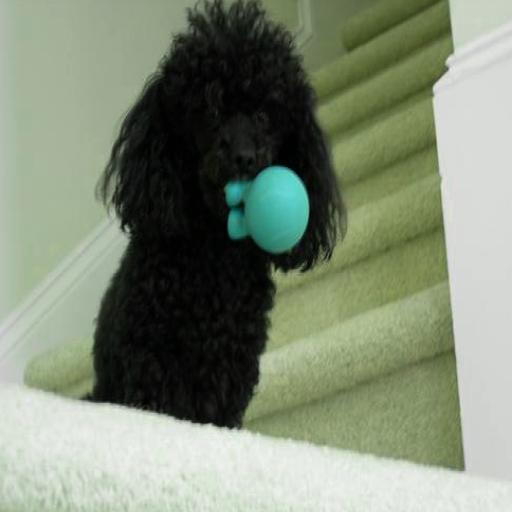dog_face: (121, 20, 334, 240)
